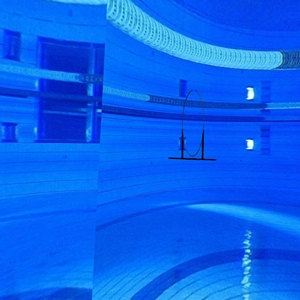circle: (168, 89, 218, 164)
